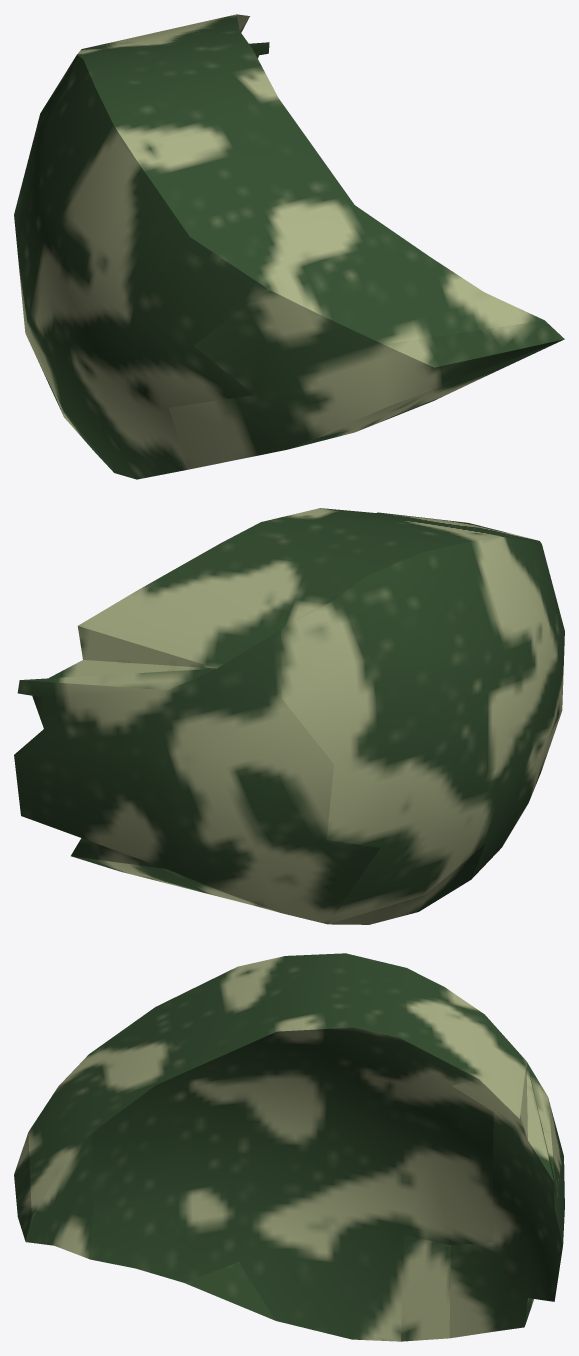
The model's file is link_body_22_composite.obj.
The picture shows the model from 3 angles, top to bottom: view 1: azimuth 30°, elevation 25°; view 2: azimuth 150°, elevation 25°; view 3: azimuth 270°, elevation 25°; orthographic projection. The views are drawn at different scales.
Parts seen in each view (by area): view 1: link_body_22; view 2: link_body_22; view 3: link_body_22.
Part boxes in pixels (bbox=[...]): link_body_22: bbox=[14, 14, 564, 479]; link_body_22: bbox=[14, 508, 564, 924]; link_body_22: bbox=[14, 953, 564, 1341].
Bounding box in the file's own units: 7.31 × 7.04 × 10.89.
Materials: 1 (1 with a texture image).
